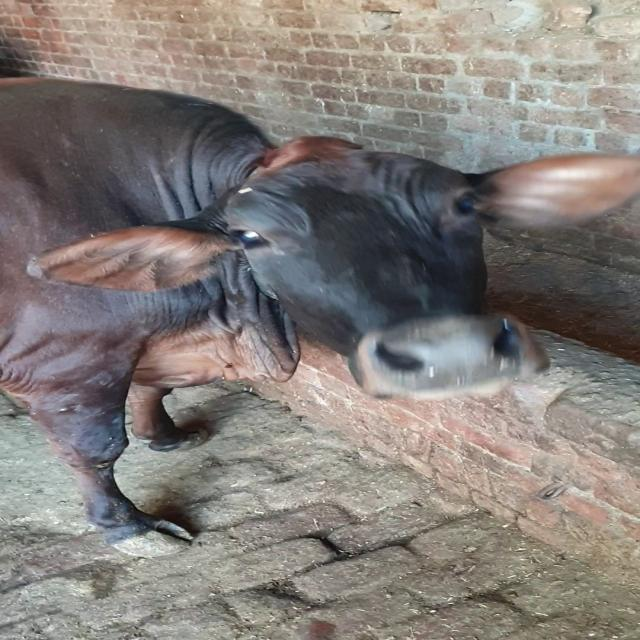cowFace: (224, 157, 551, 429)
